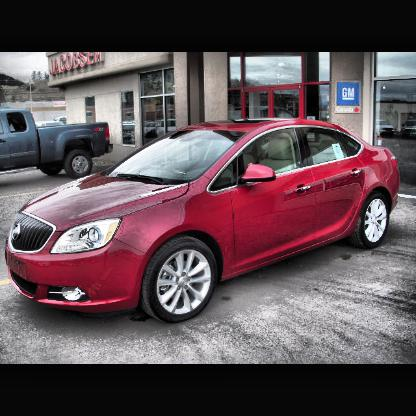Buick Verano Sedan 2012: (8, 119, 402, 325)
